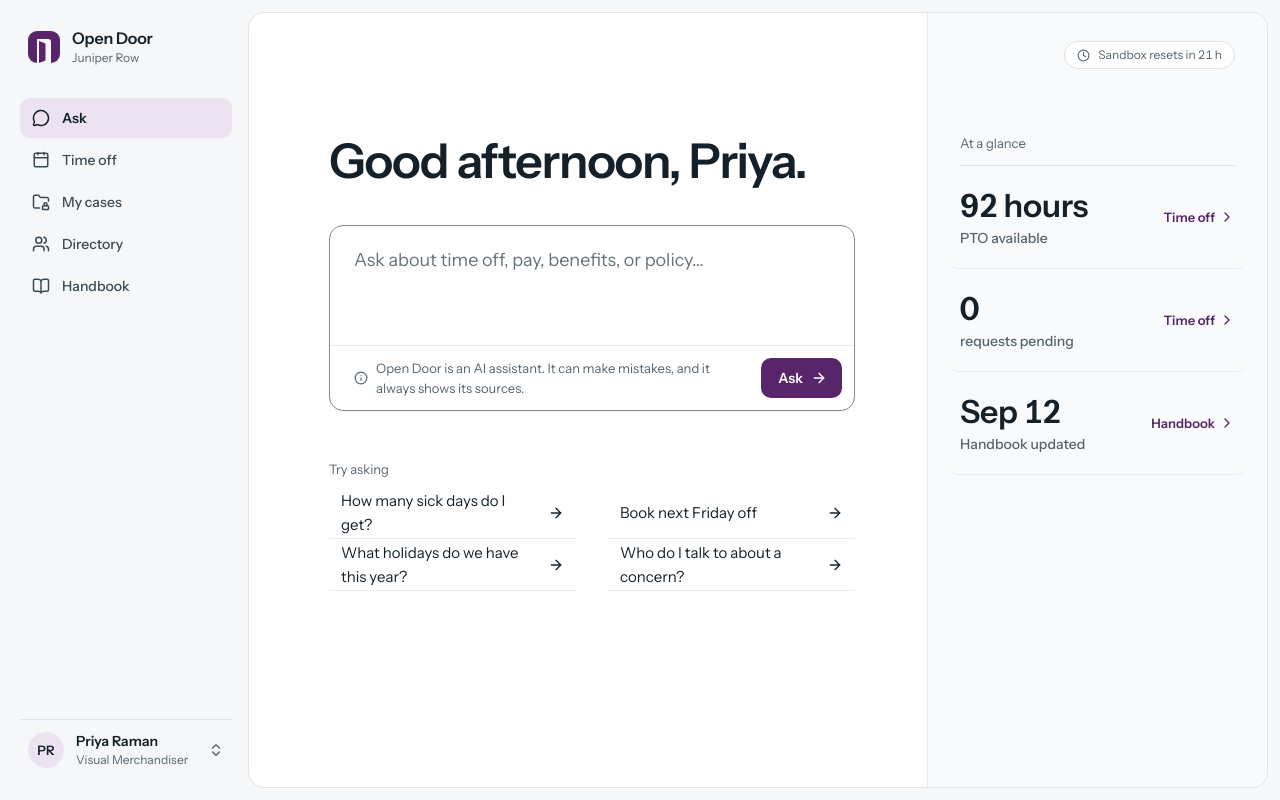
Test: a new question while the stopped answer waits for its saved copy › leaves the stopped answer and the draft when the follow-up is refused (409 turn-running)
Type "Sick days?" into the text box named "Ask Open Door" at (592, 282), box [330,226,854,338]
Then press Enter
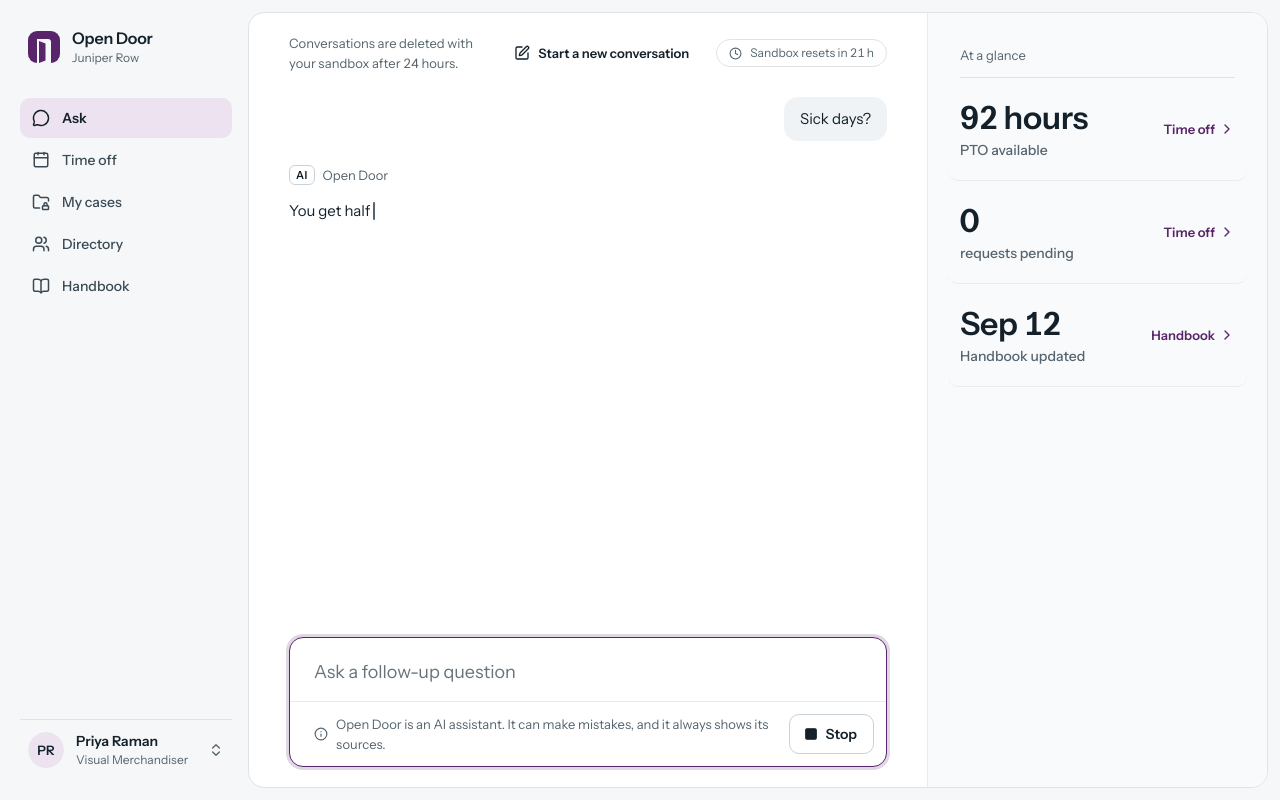
expect the text "You get half" is shown: met, box [289,201,375,220]
Click the button "Stop" at (831, 734), box [789,714,874,754]
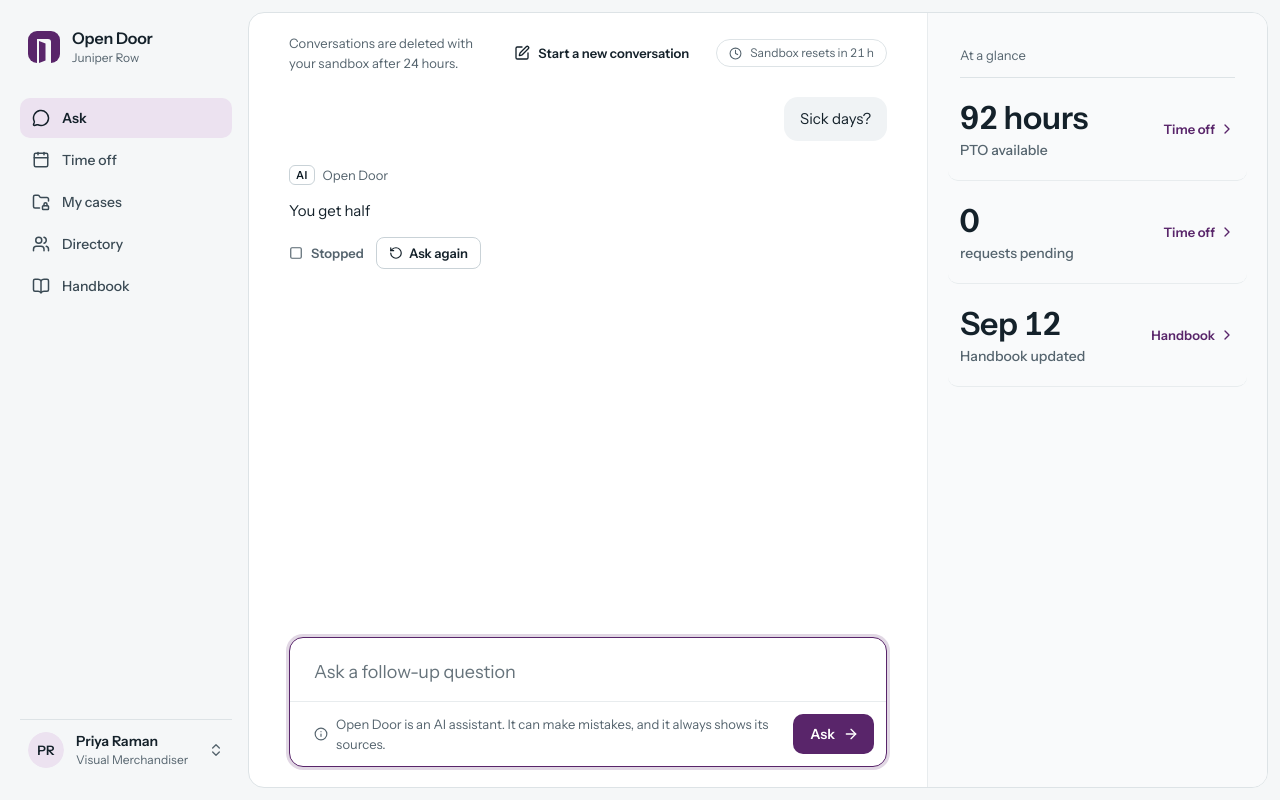
expect the text "Stopped" is shown: met, box [289,243,364,263]
Type "busy" into the text box named "Ask Open Door" at (588, 666), box [290,638,886,694]
Then press Enter
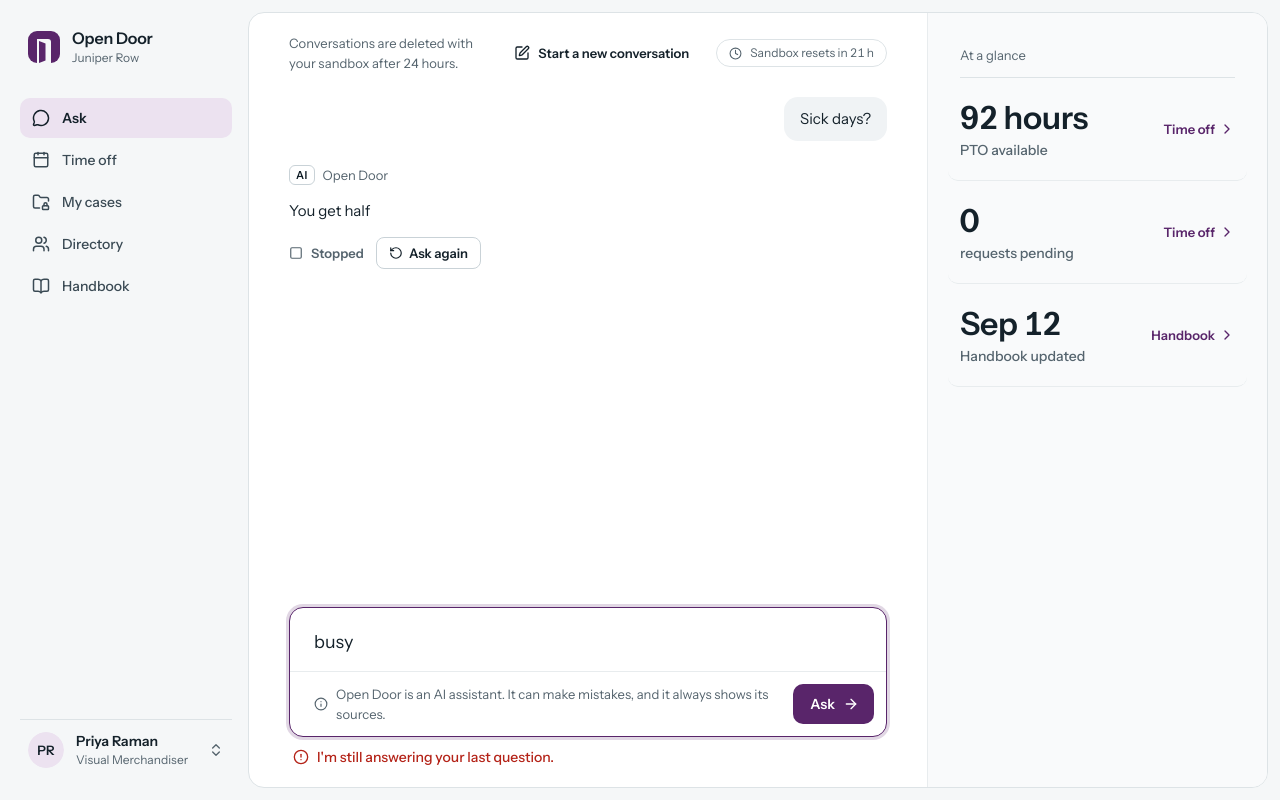
expect the text "You get half" is shown: met, box [289,201,370,220]
expect the text "Stopped" is shown: met, box [289,243,364,263]
expect the message reads "I'm still answering your last question.": met, box [317,748,554,766]
